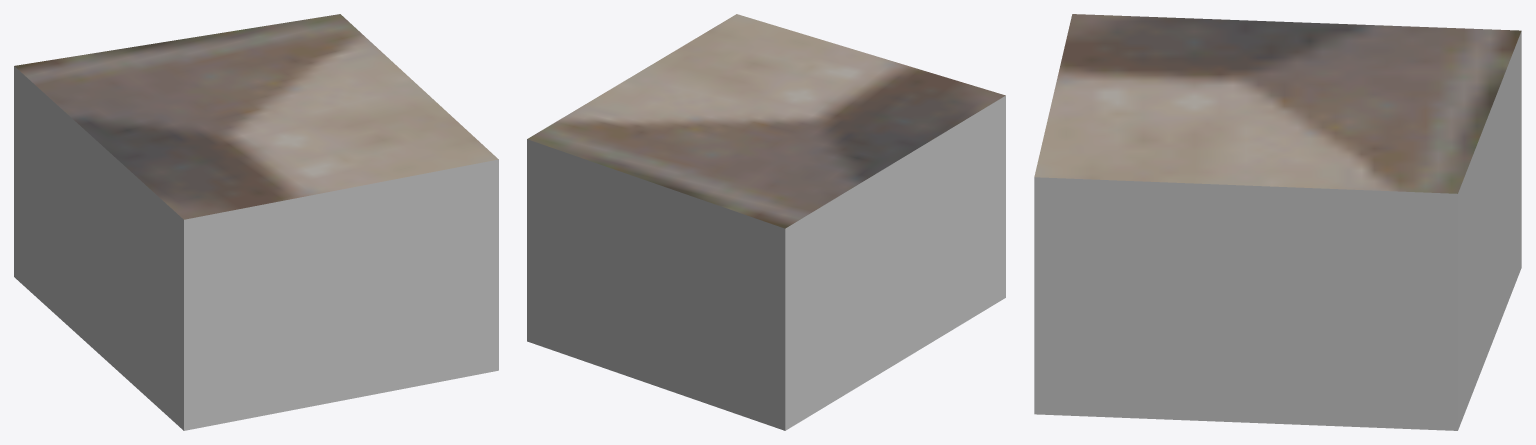
The model's file is DEBW_0010007Txda.gltf.
3 renders of one model, left to right at view 1: azimuth 30°, elevation 25°; view 2: azimuth 150°, elevation 25°; view 3: azimuth 270°, elevation 25°, orthographic. The views are drawn at different scales.
Visible parts, largest first — view 1: Z_UP; view 2: Z_UP; view 3: Z_UP.
Part boxes in pixels (<box>): Z_UP: <box>14,14,498,430</box>; Z_UP: <box>527,14,1005,430</box>; Z_UP: <box>1034,14,1521,430</box>.
Size of the model in its own units: 6.61 by 4.06 by 7.57.
2 materials, 1 textured.
